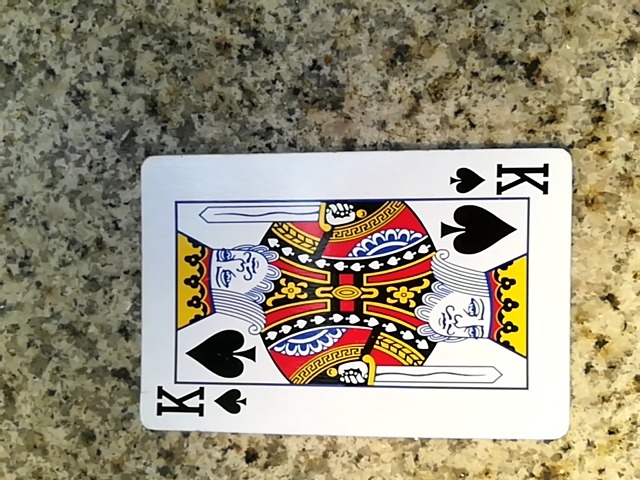ht k: (125, 146, 575, 442)
